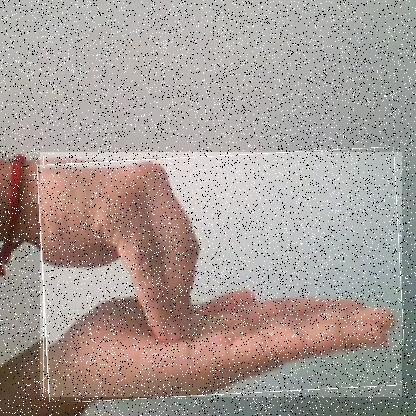Z: (40, 152, 403, 398)
